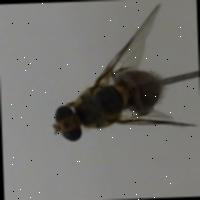Oriental-fruit-fly: (42, 18, 198, 146)
